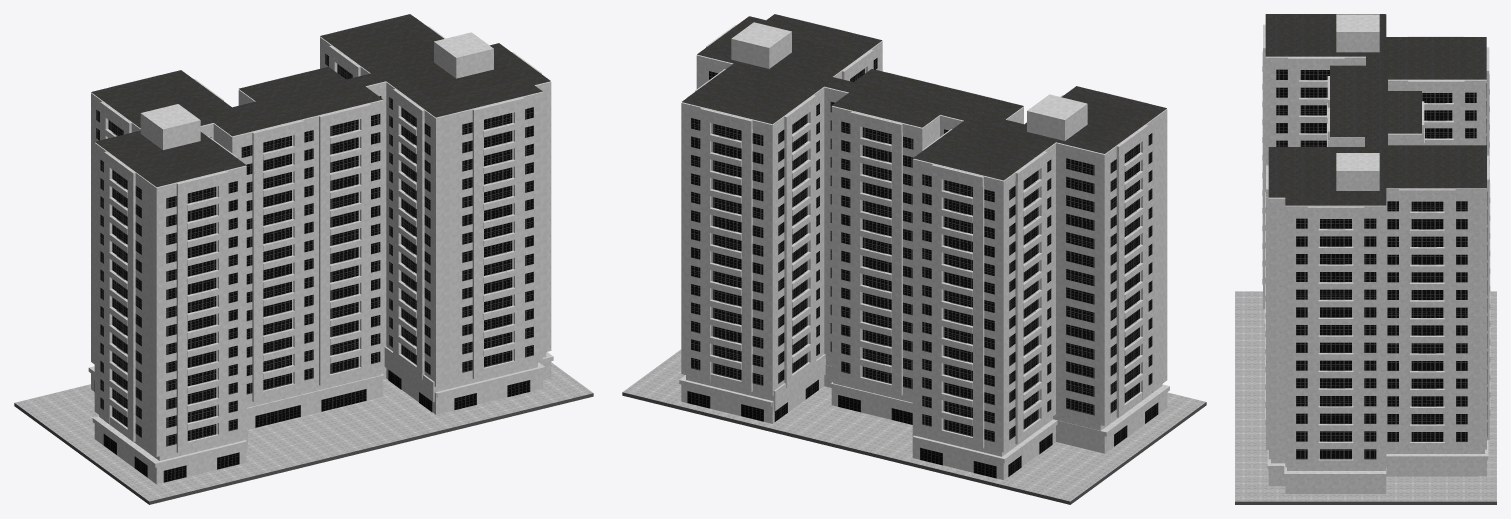
File: apartment.glb
The picture shows the model from 3 angles, left to right: view 1: azimuth 30°, elevation 25°; view 2: azimuth 150°, elevation 25°; view 3: azimuth 270°, elevation 25°; orthographic projection. The views are drawn at different scales.
Parts seen in each view (by area): view 1: building_red_3, building_yellow_2, windows_apartment_1, top_0, baseplate_5, building_green_4, windows_shop_6; view 2: building_yellow_2, building_red_3, windows_apartment_1, top_0, baseplate_5, building_green_4, windows_shop_6; view 3: building_yellow_2, building_red_3, top_0, windows_apartment_1, baseplate_5, building_green_4.
Boxes of the visible parts, <box> form: building_red_3: <box>100,19,541,452</box>; building_yellow_2: <box>91,32,551,456</box>; windows_apartment_1: <box>96,54,533,446</box>; top_0: <box>91,14,550,187</box>; baseplate_5: <box>14,362,593,504</box>; building_green_4: <box>88,346,553,484</box>; windows_shop_6: <box>94,369,530,482</box>; building_yellow_2: <box>681,22,1167,452</box>; building_red_3: <box>695,19,1148,448</box>; windows_apartment_1: <box>691,58,1152,441</box>; top_0: <box>682,14,1166,180</box>; baseplate_5: <box>622,349,1206,504</box>; building_green_4: <box>679,354,1169,479</box>; windows_shop_6: <box>687,379,1158,478</box>; building_yellow_2: <box>1265,14,1486,467</box>; building_red_3: <box>1262,24,1490,468</box>; top_0: <box>1265,14,1486,205</box>; windows_apartment_1: <box>1276,69,1487,459</box>; baseplate_5: <box>1235,291,1496,504</box>; building_green_4: <box>1264,309,1488,493</box>.
Size of what is drawn, in the model's own units: 235 by 162 by 124.
Materials: 9 (7 with a texture image).
